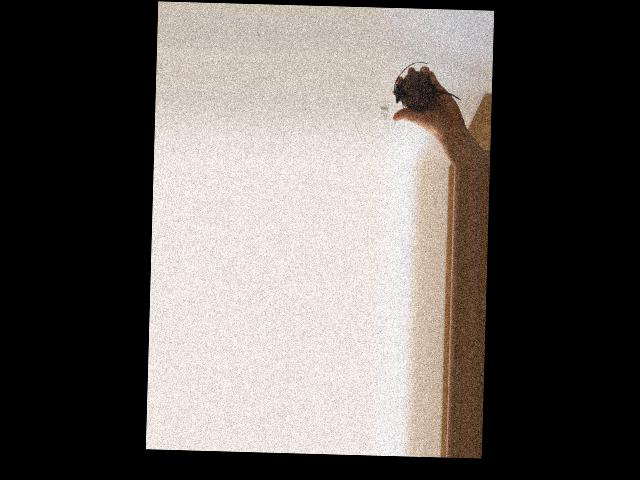beet: (392, 60, 461, 110)
